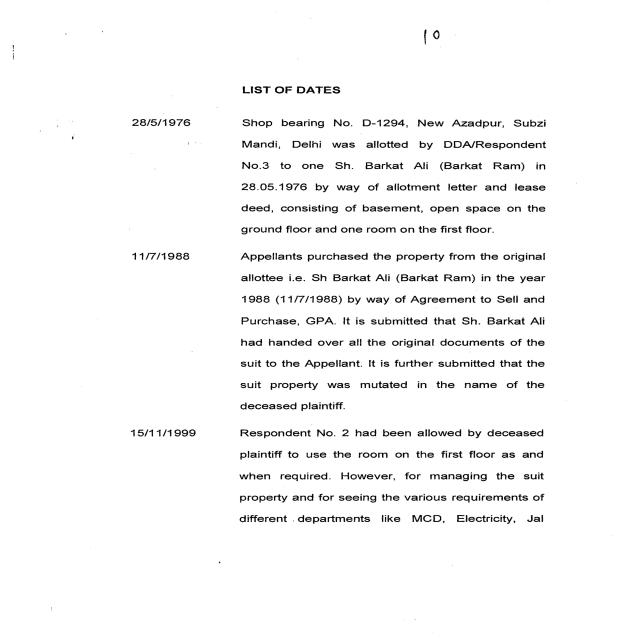page-number: (300, 0, 553, 66)
